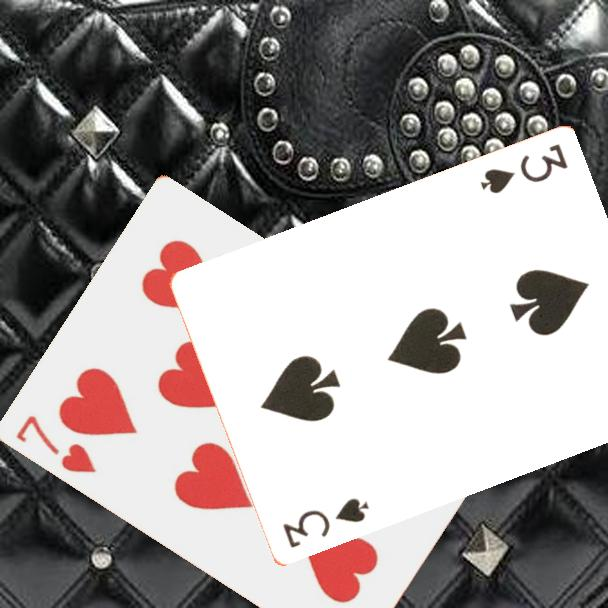h07: (11, 412, 99, 477)
s03: (476, 141, 571, 198), (278, 495, 372, 552)
